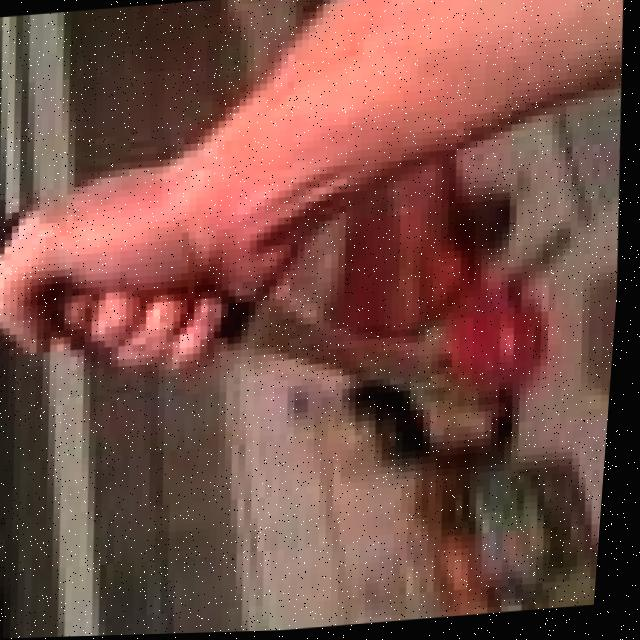knife: (192, 248, 500, 459)
